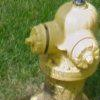Hydrant: (20, 1, 100, 100)
